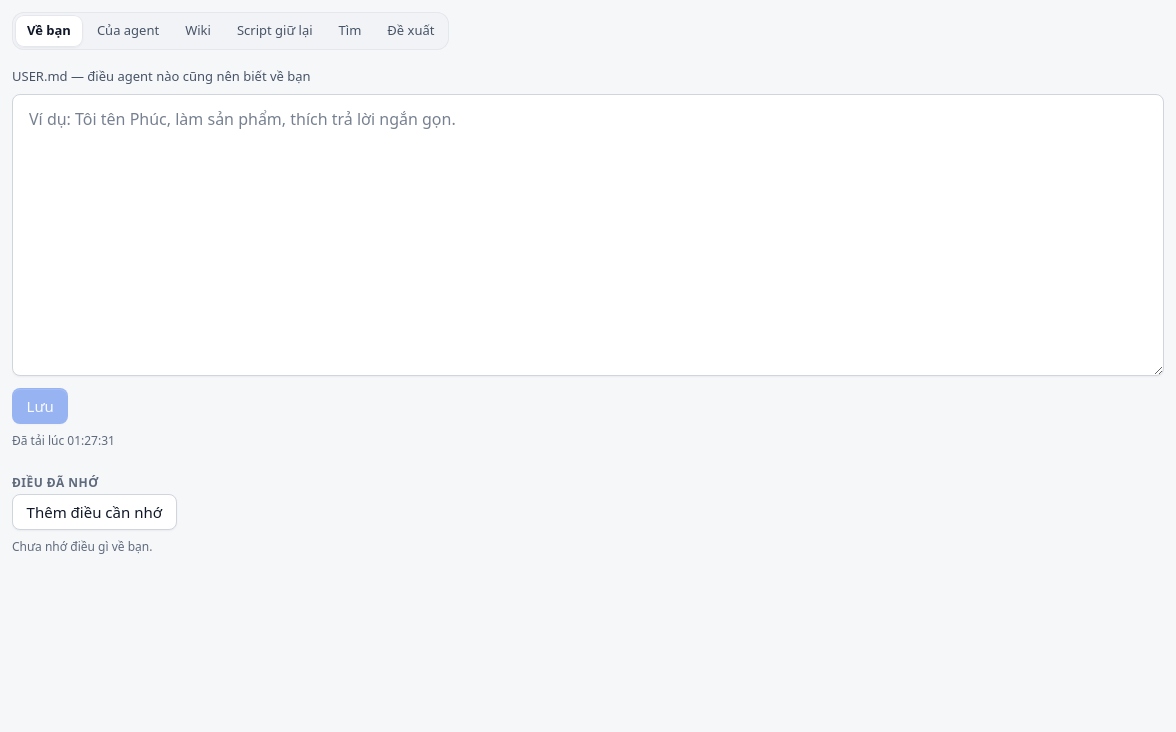
Test: MemoryPanel › asks the server to consolidate and says where to watch it
The image size is (1176, 732).
Click the tab "Của agent": (128, 31) [85,15,171,47]
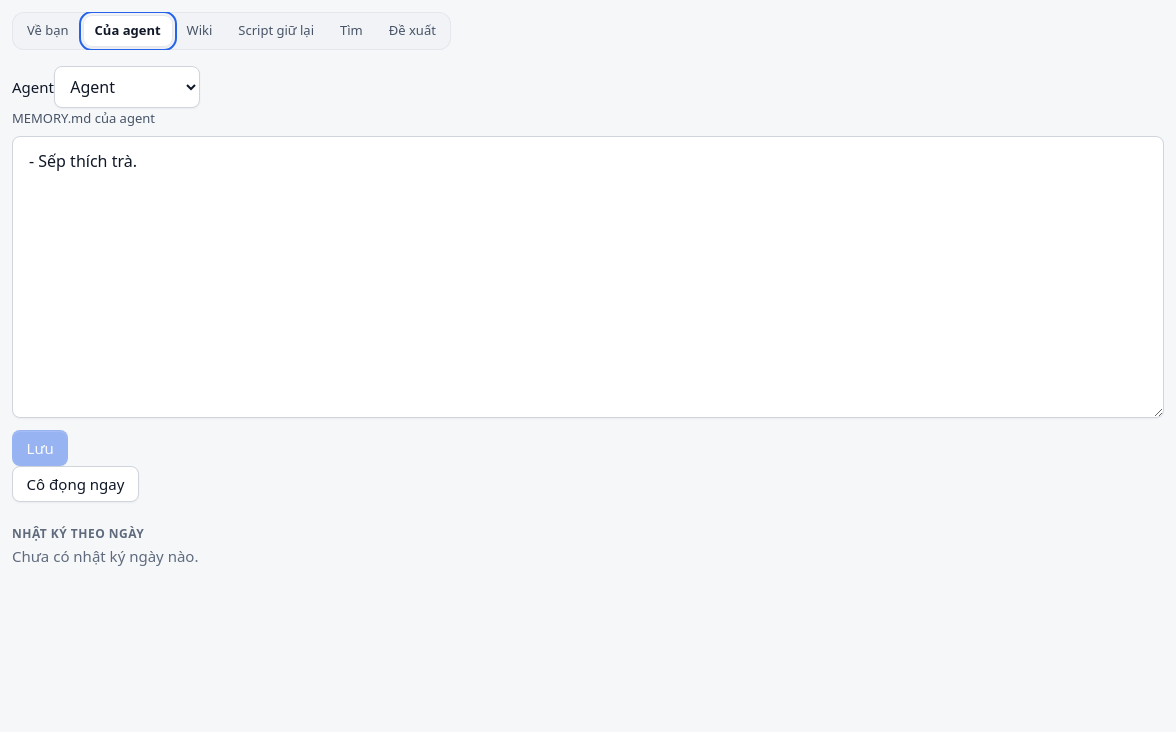
Click the button "Cô đọng ngay": (75, 484) [12,466,139,502]
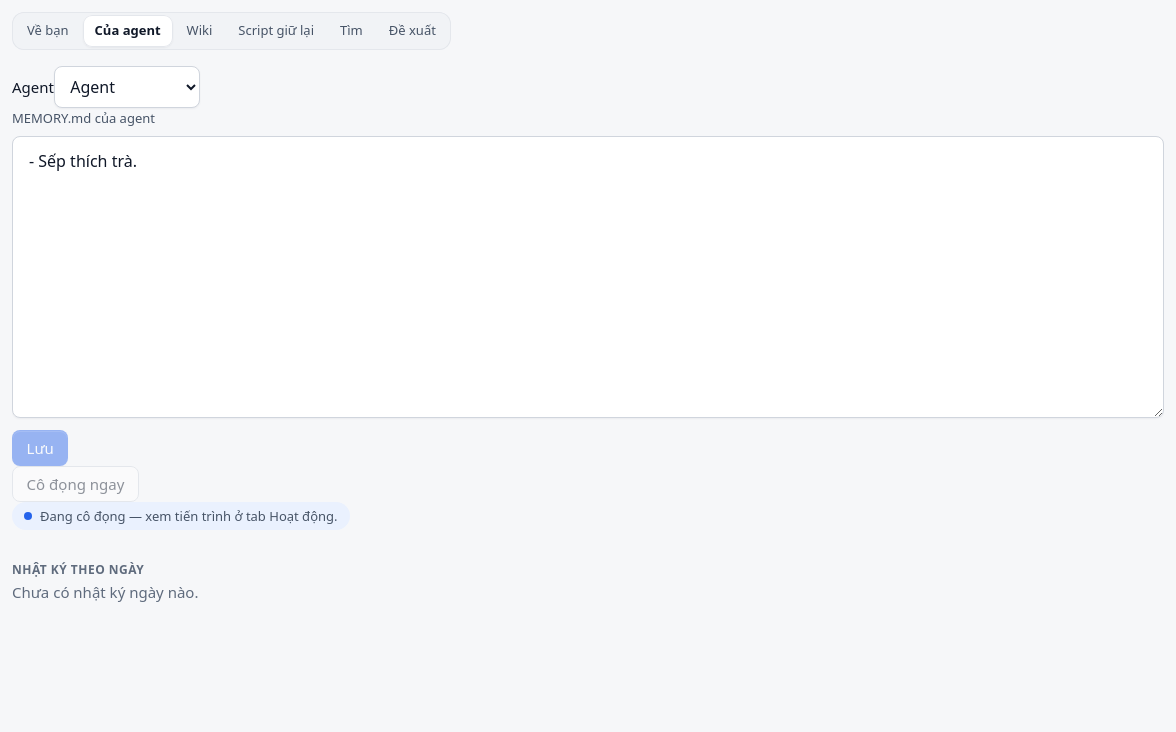
Expected: the text "Đang cô đọng — xem tiến trình ở tab Hoạt động." is shown, [40,506,338,526]
